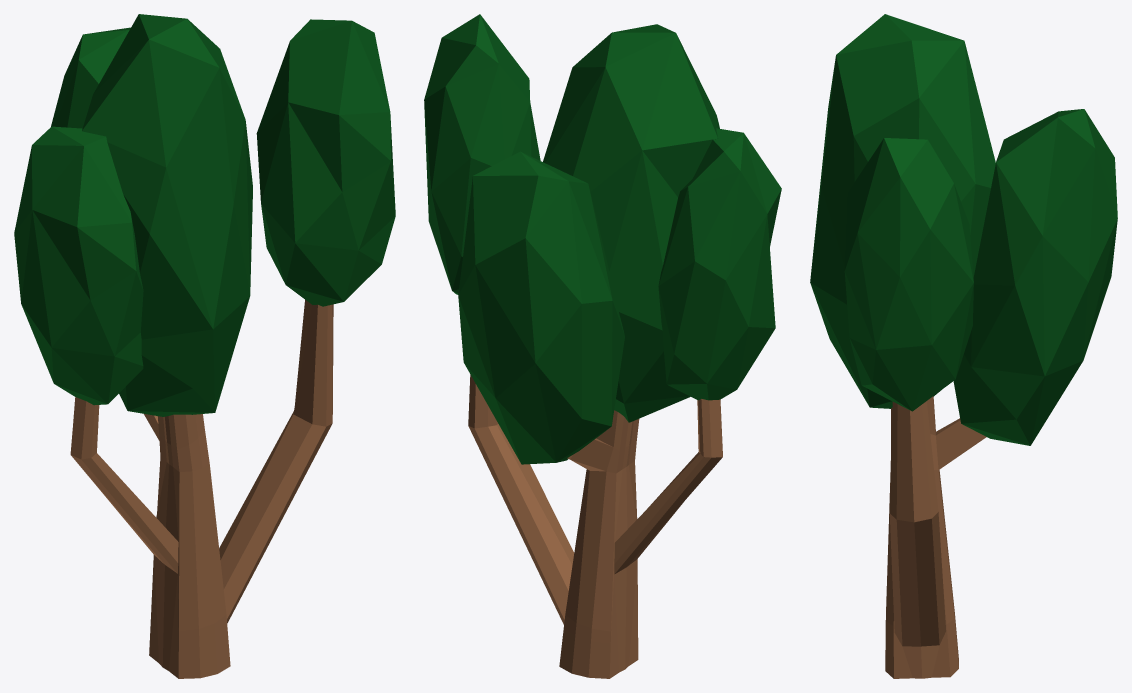
File: tree-summer-complete-34-018.glb
The picture shows the model from 3 angles, left to right: view 1: azimuth 30°, elevation 25°; view 2: azimuth 150°, elevation 25°; view 3: azimuth 270°, elevation 25°; orthographic projection. The views are drawn at different scales.
Parts seen in each view (by area): view 1: Tree 34_77; view 2: Tree 34_77; view 3: Tree 34_77.
Boxes of the visible parts, x1,y1,x2,y2 form: Tree 34_77: (14, 14, 395, 678); Tree 34_77: (424, 14, 781, 678); Tree 34_77: (810, 14, 1117, 678).
Size of the model in its own units: 0.9813 by 1.74 by 0.7767.
